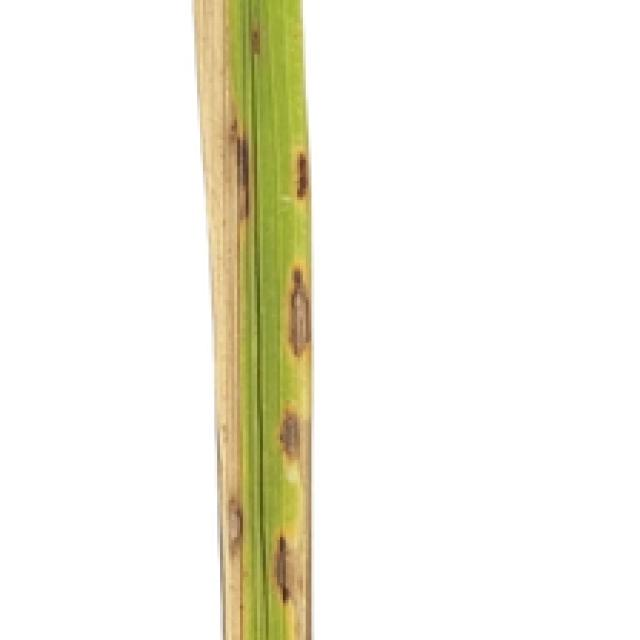Rice___Rice_Blast: (191, 0, 313, 637)
